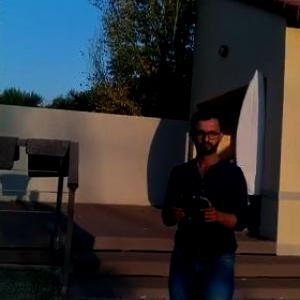follow: (156, 103, 253, 299)
